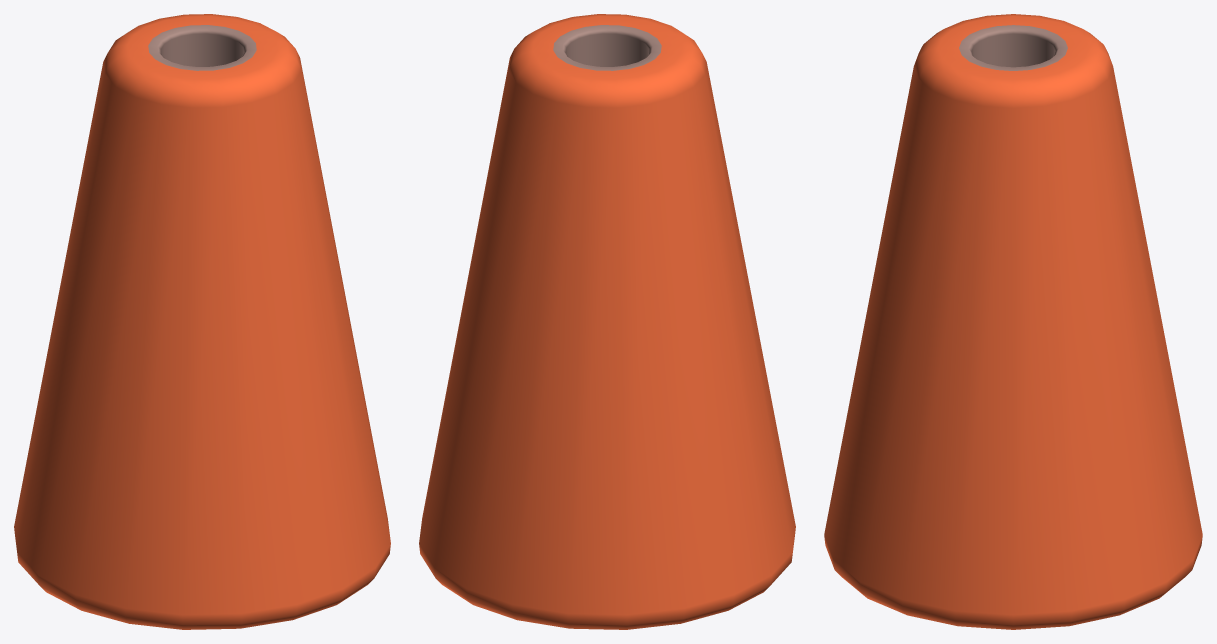
File: Public_19_Skein_of_thread_4.glb
3 renders of one model, left to right at view 1: azimuth 30°, elevation 25°; view 2: azimuth 150°, elevation 25°; view 3: azimuth 270°, elevation 25°, orthographic.
Visible parts, largest first — view 1: Public_19_Skein_of_thread_4; view 2: Public_19_Skein_of_thread_4; view 3: Public_19_Skein_of_thread_4.
Boxes of the visible parts, x1=… form: Public_19_Skein_of_thread_4: x1=14, y1=14, x2=390, y2=629; Public_19_Skein_of_thread_4: x1=419, y1=14, x2=795, y2=629; Public_19_Skein_of_thread_4: x1=824, y1=14, x2=1202, y2=629.
Size of the model in its own units: 0.3044 by 0.4513 by 0.3044.
Materials: 1 (1 with a texture image).
